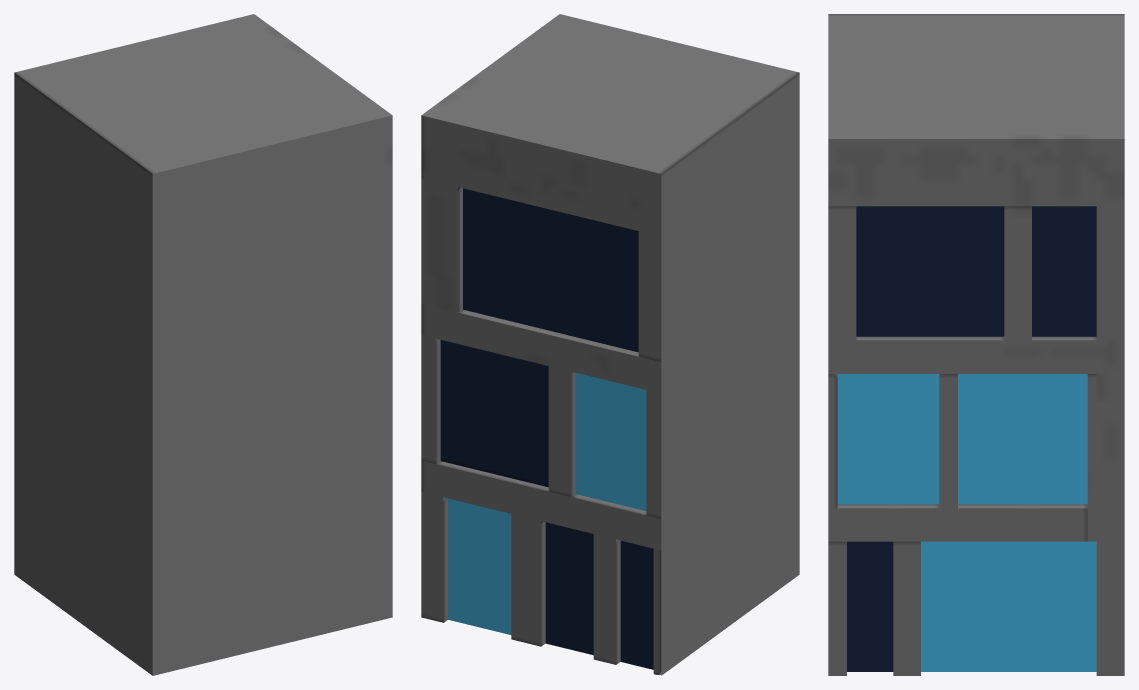
The model's file is B_BOK_CZ_1234.dae.
The picture shows the model from 3 angles, left to right: view 1: azimuth 30°, elevation 25°; view 2: azimuth 150°, elevation 25°; view 3: azimuth 270°, elevation 25°; orthographic projection. The views are drawn at different scales.
Parts seen in each view (by area): view 1: Content; view 2: Content; view 3: Content.
Part boxes in pixels (x1=…): Content: x1=14, y1=14, x2=392, y2=675; Content: x1=421, y1=14, x2=799, y2=675; Content: x1=828, y1=14, x2=1124, y2=675.
Size of the model in its own units: 32 by 64 by 32.
1 material, 1 textured.
